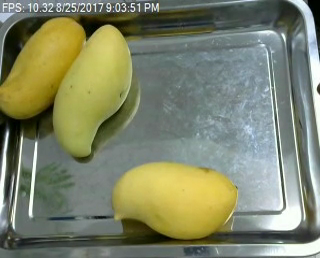Mango: (52, 25, 133, 160), (110, 158, 237, 240), (0, 17, 87, 120)
